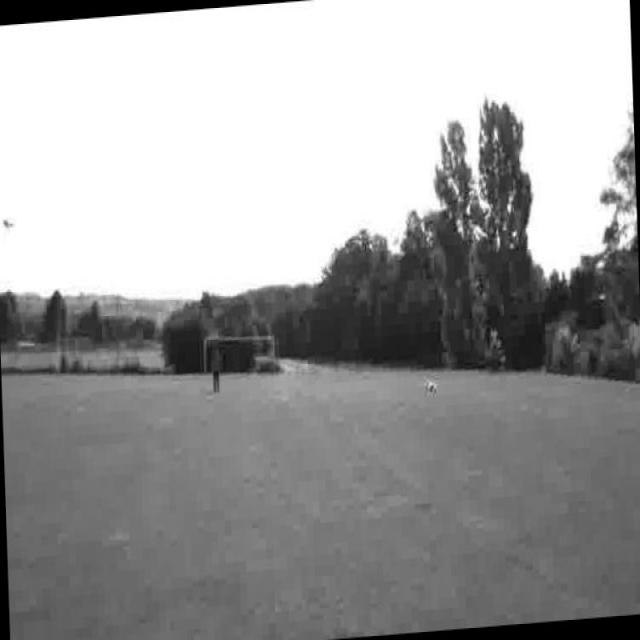drone: (412, 367, 445, 406)
